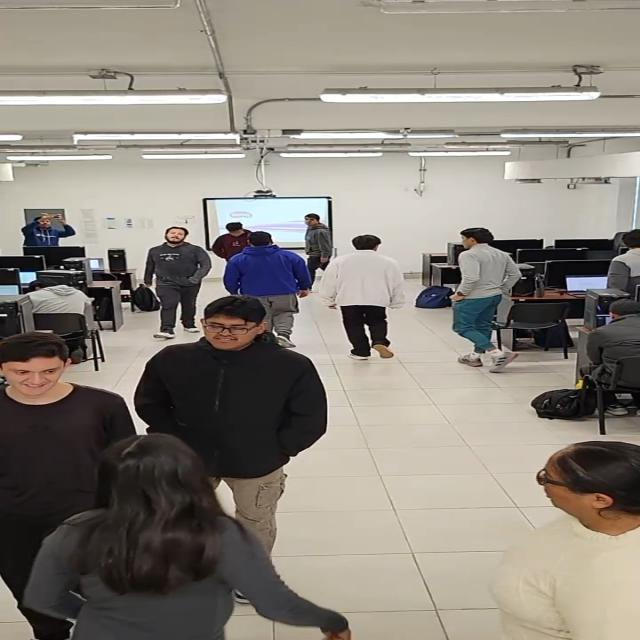Persona: (19, 432, 354, 640), (135, 295, 332, 606), (1, 330, 140, 638), (490, 441, 640, 640), (318, 235, 408, 361), (222, 230, 313, 348), (448, 227, 521, 373), (142, 226, 213, 339), (299, 214, 338, 276), (213, 221, 262, 261)
